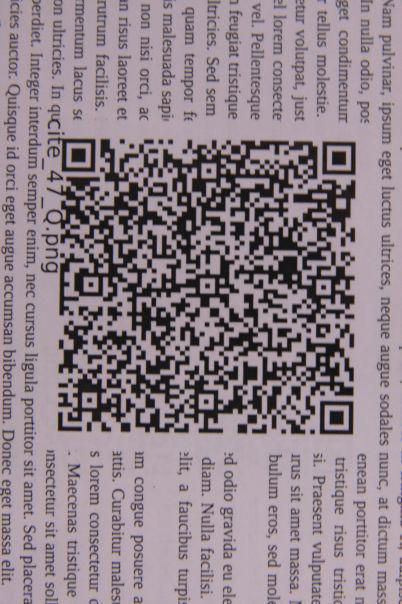Finder pattern: (317, 392, 359, 440), (56, 134, 103, 175), (318, 137, 359, 180)
